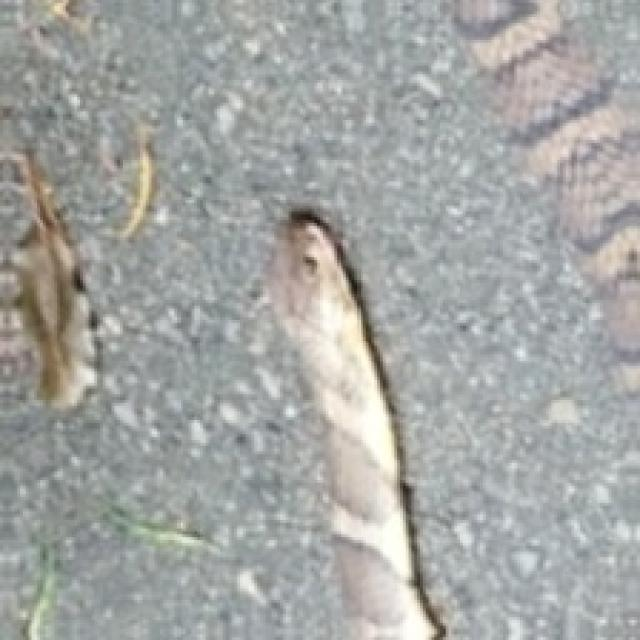king cobra: (266, 211, 440, 637), (454, 0, 637, 391)
